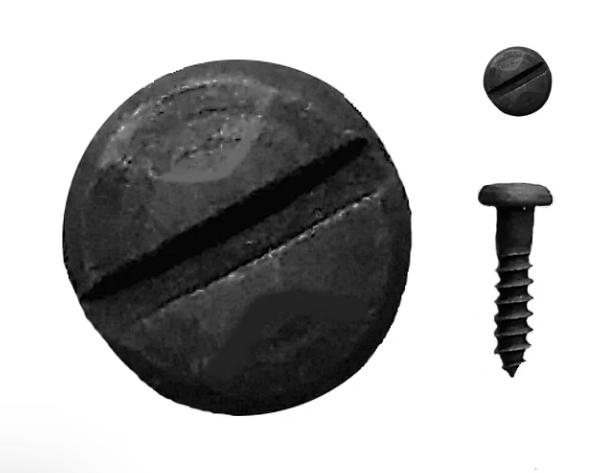slotted: (59, 59, 412, 418)
